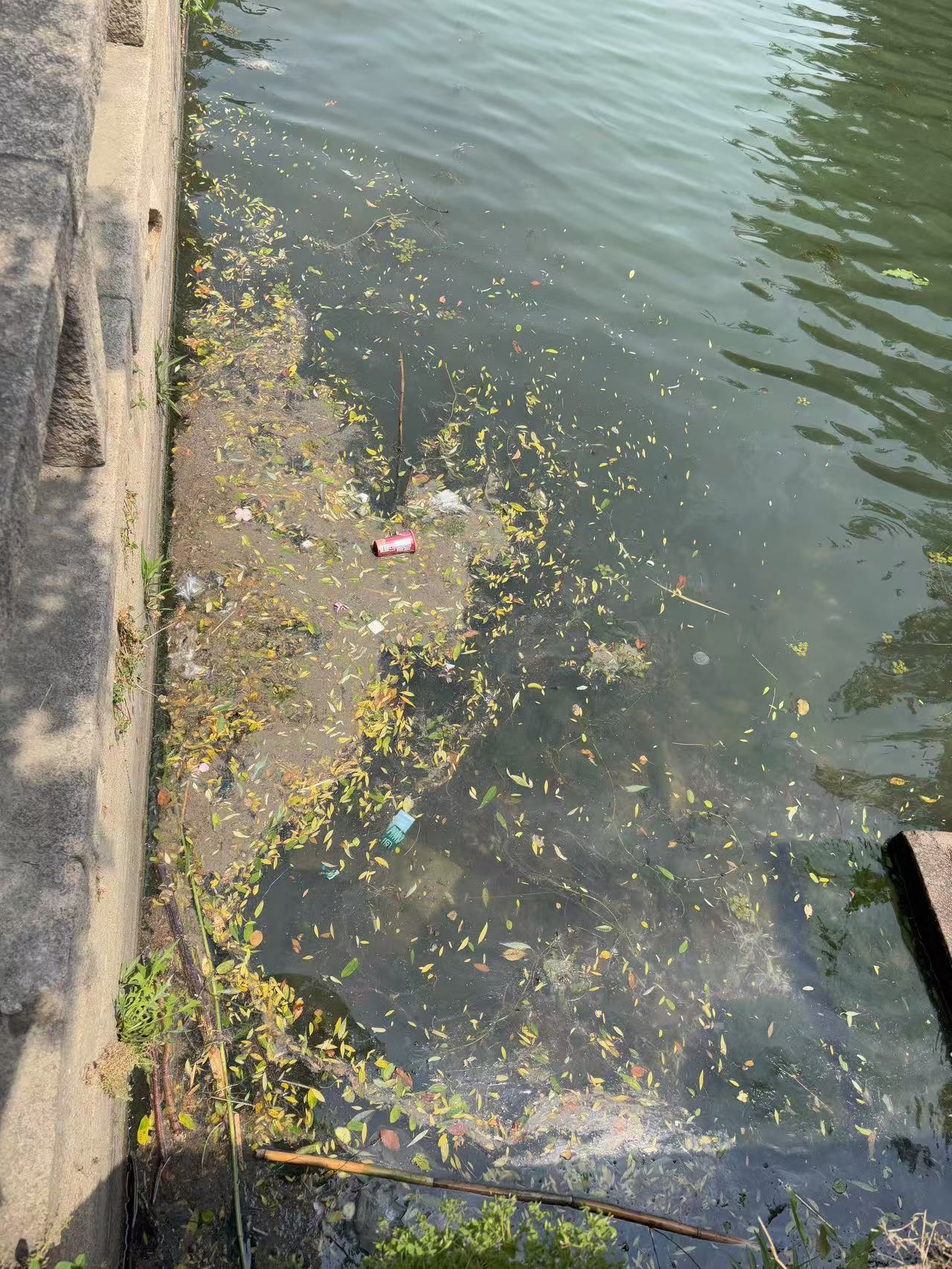Natural wastes: (231, 969, 300, 1052), (366, 1082, 482, 1127)
Other: (176, 307, 359, 561), (213, 566, 361, 816), (528, 1100, 721, 1162), (155, 789, 256, 876), (581, 639, 649, 677)
Plastic wastes: (167, 647, 207, 677), (375, 531, 420, 557), (381, 812, 414, 847), (428, 492, 473, 515), (176, 575, 203, 599), (318, 865, 341, 879), (367, 619, 385, 636), (691, 650, 709, 664), (356, 491, 371, 502), (199, 763, 209, 772), (303, 540, 314, 548)
